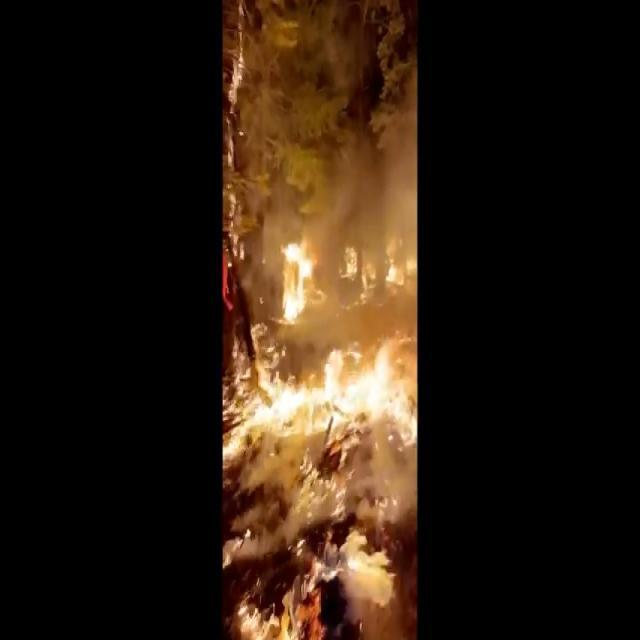Fire: (222, 200, 416, 637)
